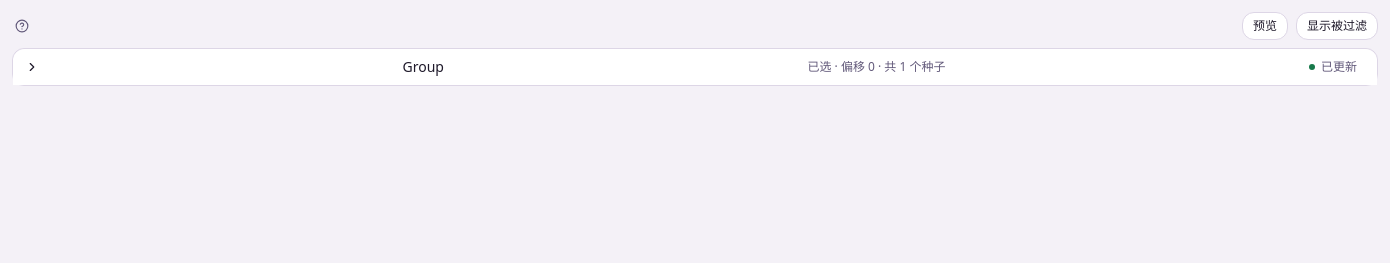
Test: draft RSS test bench › 展开失败留在行内显示原因
This screenshot has width=1390, height=263.
Click the button "Group 已选 · 偏移 0 · 共 1 个种子 已更新" at x=423, y=67, box [13, 49, 1369, 85]
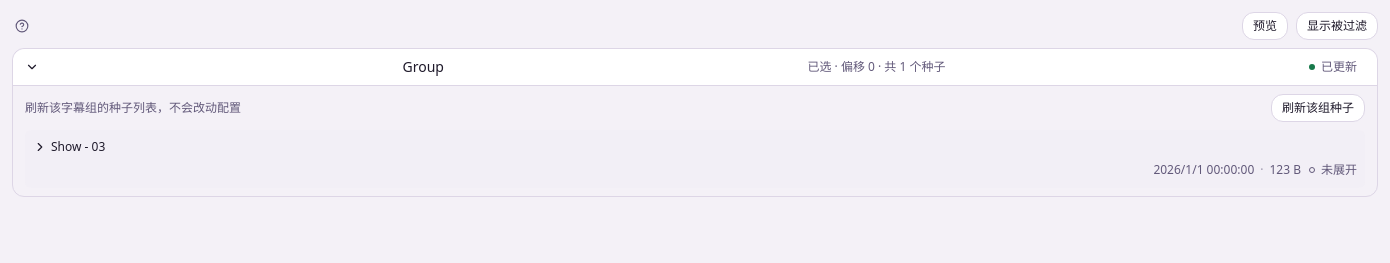
Click the button with aria-label "展开文件与状态" at x=78, y=146, box [33, 138, 1357, 156]
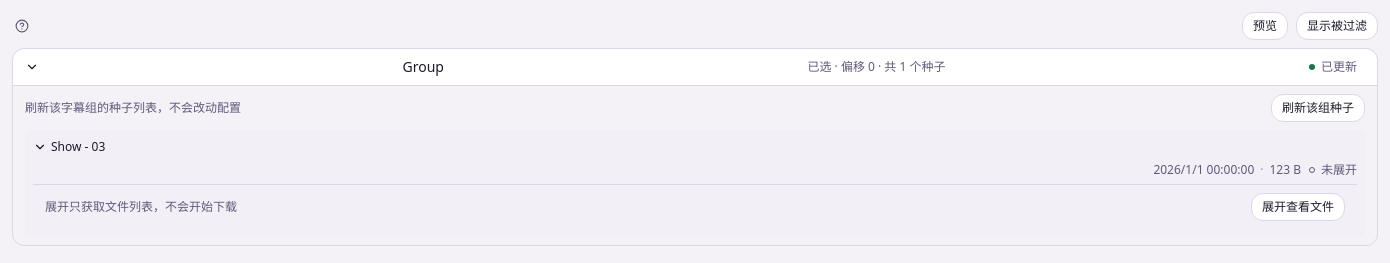
Click the button "展开查看文件" at x=1298, y=207, box [1251, 193, 1345, 221]
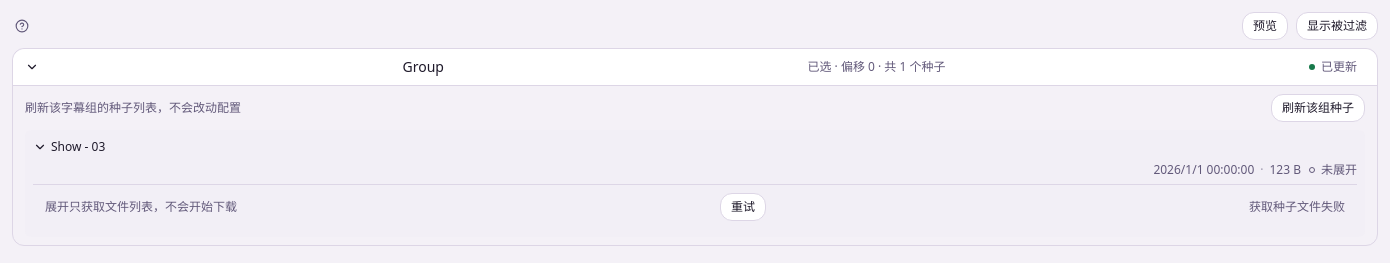
expect the text "获取种子文件失败" is shown: met, box [1249, 198, 1345, 216]
